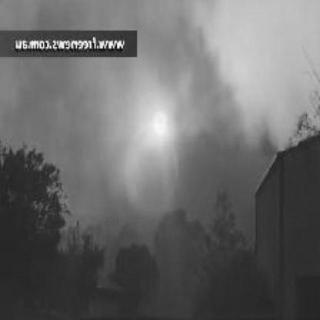other: (137, 94, 183, 152)
